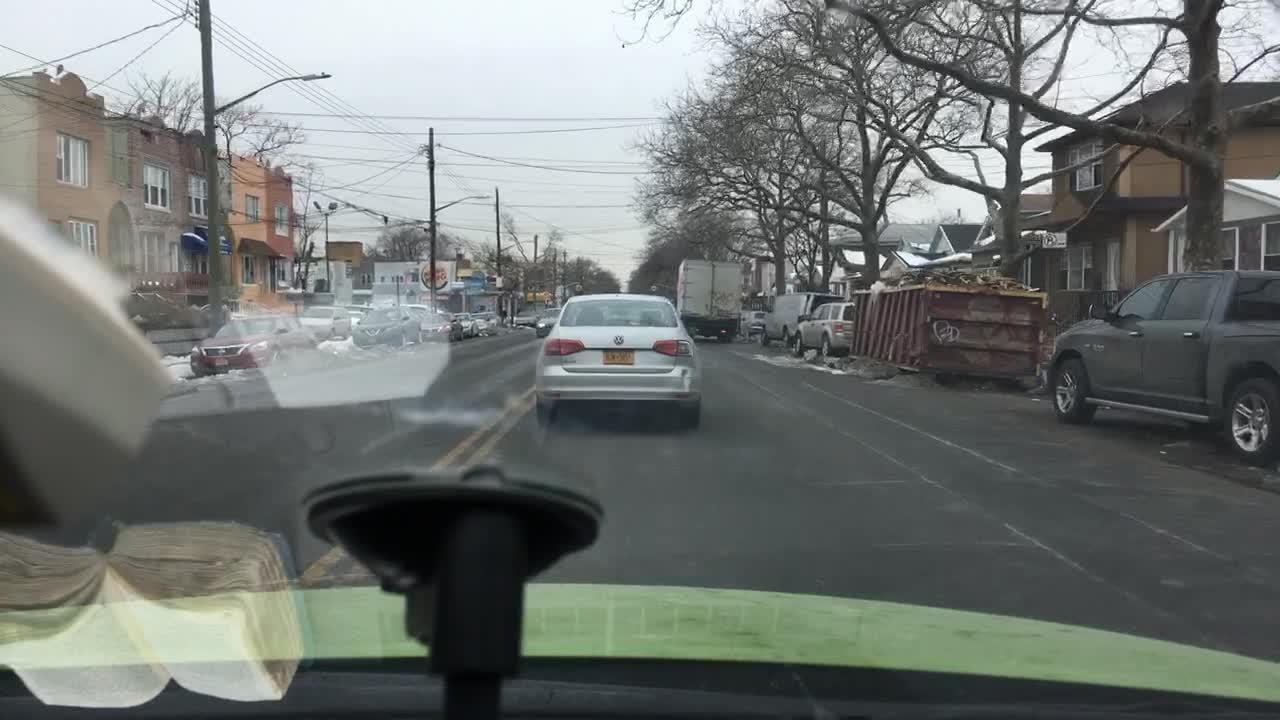Volkswagen: (612, 334, 624, 346)
